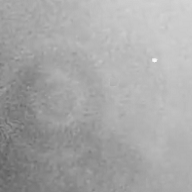Target: (150, 57, 158, 63)
